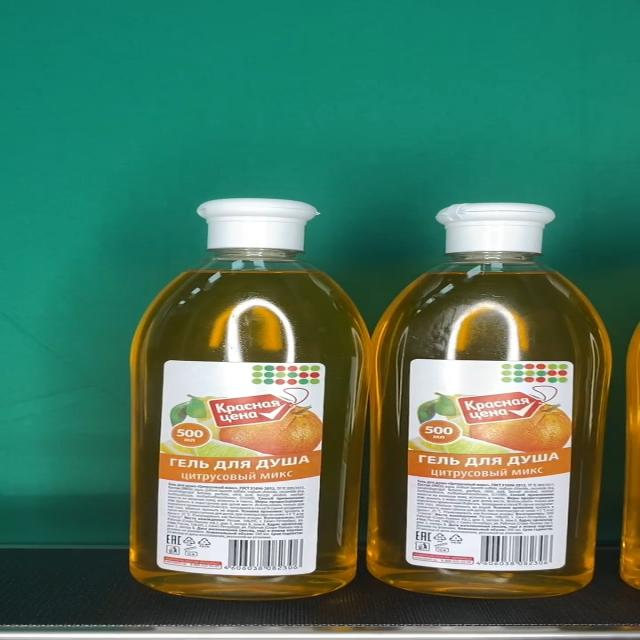Bottle: (128, 198, 371, 600), (371, 203, 613, 598)
Cap: (434, 203, 555, 254), (197, 199, 317, 249)
